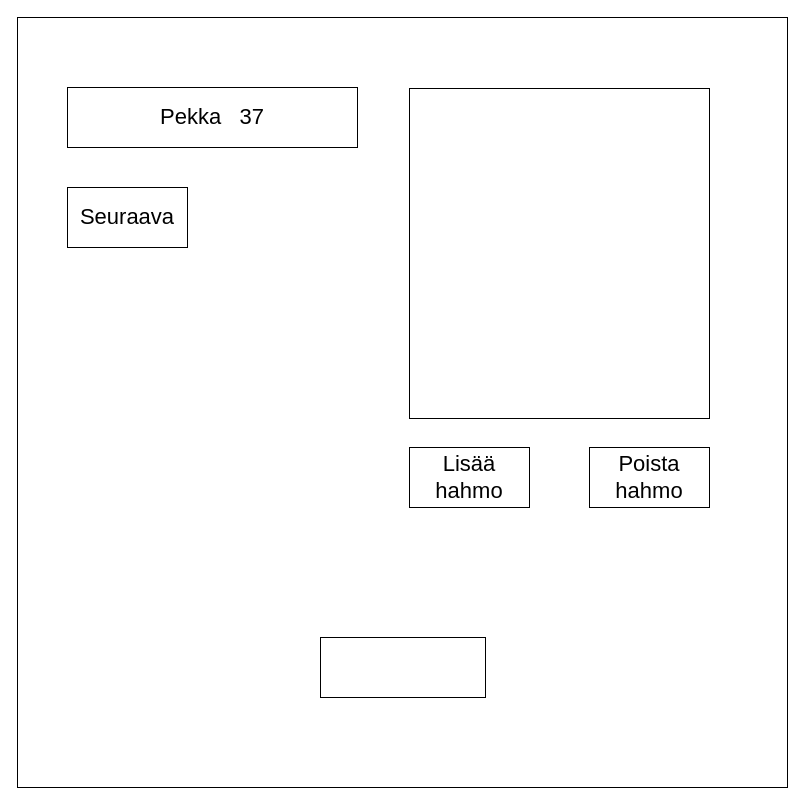
This 805x805 diagram has some shape labels left out. The shapes that lost their labels are listed below. From the top down, each one's centre as x and y in pixels, then its label:
the point at 559,253: Pekka 37 Jukka 34 Örkki 1 29 Örkki 2 25 Pena 13 Örkki 3 5
the point at 403,667: Lopeta taistelu
